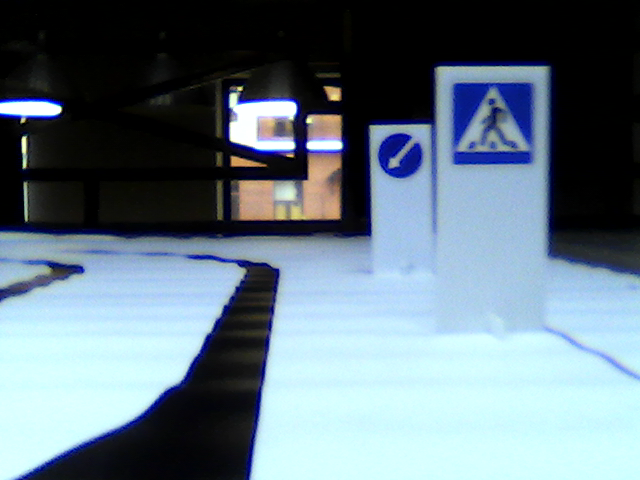pesh: (453, 81, 535, 166)
prep: (379, 131, 425, 178)
